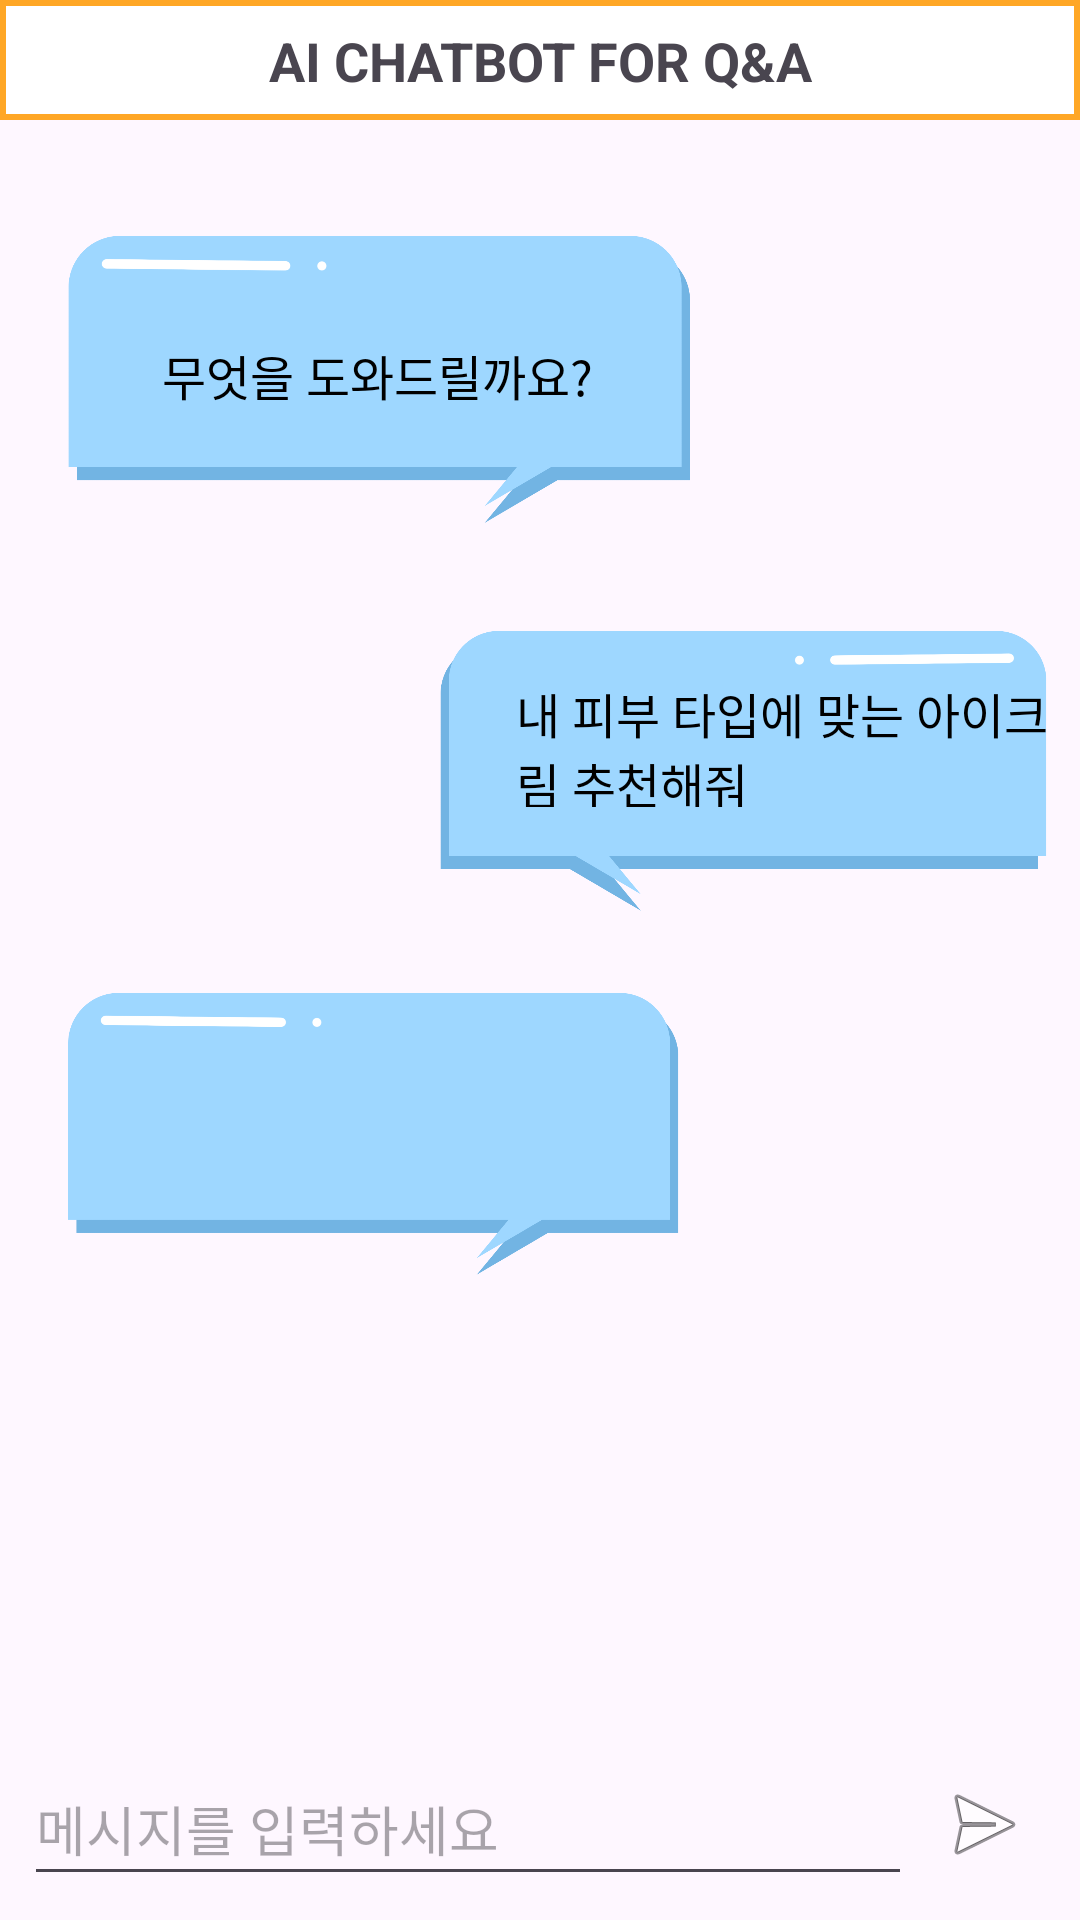

Icon click points for this 1080px×1920px phone screenshot, format (x=x, y=y):
메시지 전송: (x=985, y=1824)
